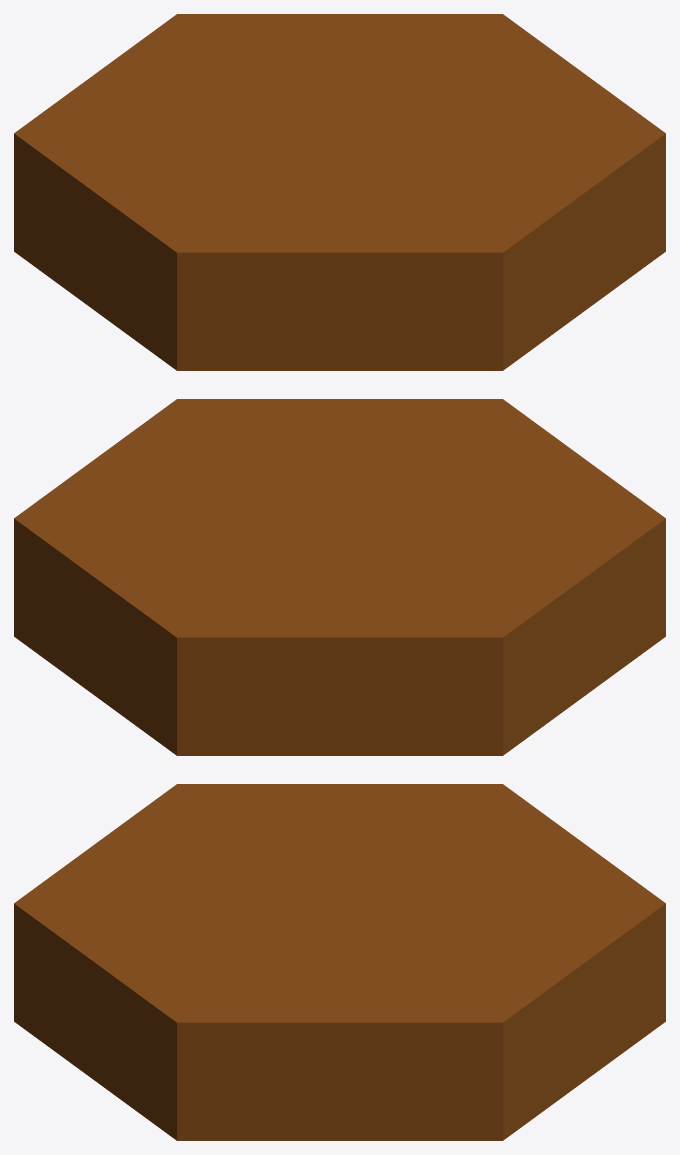
File: TileHex_06.fbx
The picture shows the model from 3 angles, top to bottom: view 1: azimuth 30°, elevation 25°; view 2: azimuth 150°, elevation 25°; view 3: azimuth 270°, elevation 25°; orthographic projection.
Parts seen in each view (by area): view 1: TileHex_06; view 2: TileHex_06; view 3: TileHex_06.
Part boxes in pixels (box(x1,y1,x2,y2)): TileHex_06: box(14, 14, 665, 370); TileHex_06: box(14, 399, 665, 755); TileHex_06: box(14, 784, 665, 1140).
Size of the model in its own units: 433 by 100 by 500.
